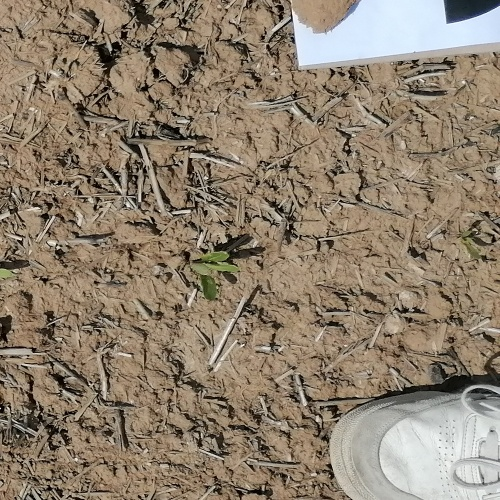beet: (191, 252, 239, 300), (458, 225, 483, 261)
